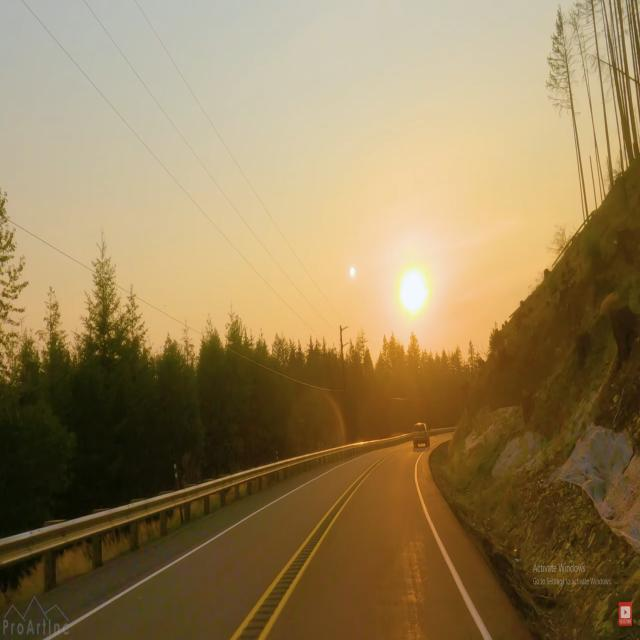sun: (382, 247, 444, 336)
